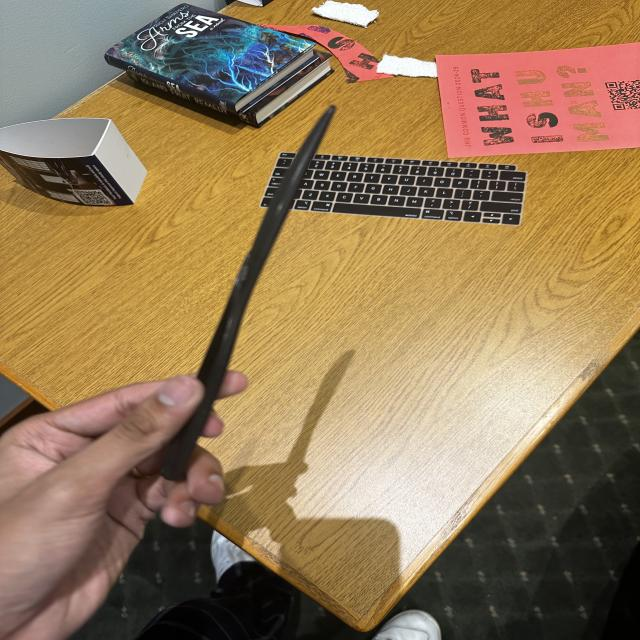knife: (120, 86, 379, 503)
